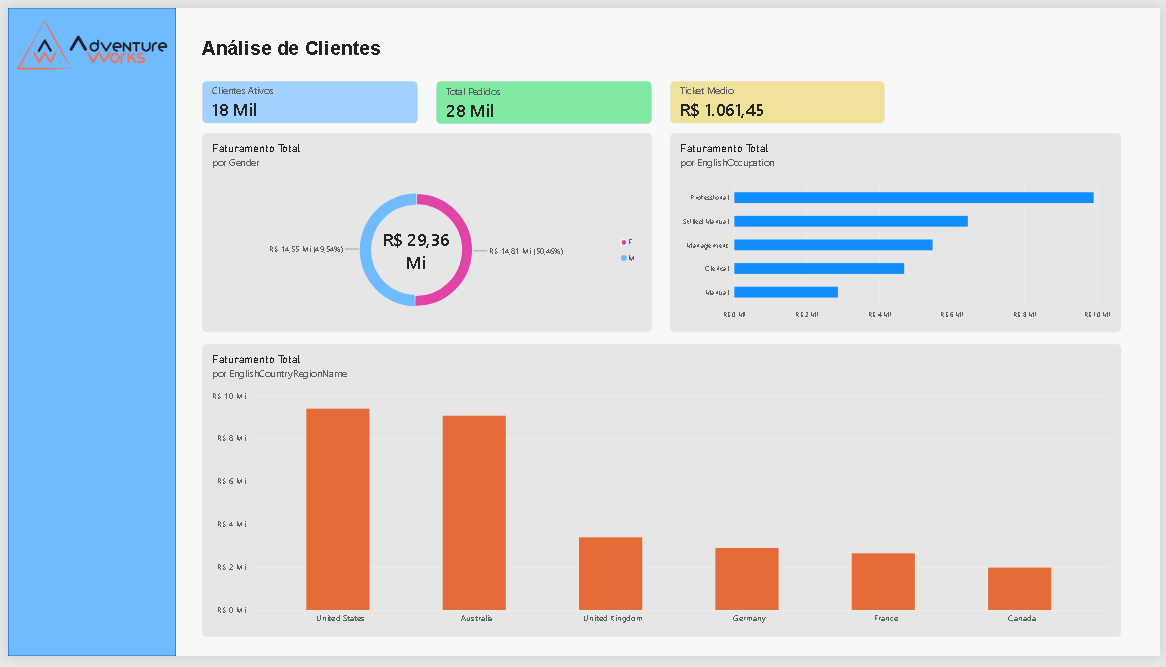

The dashboard page shown, as its layout file describes it:
{"tool":"powerbi","page":{"name":"Análise de Clientes","canvas":[1920,1080],"ordinal":1},"visuals":[{"type":"shape","box":[0,0,280,1080],"z":0},{"type":"image","box":[0,0,280,122],"z":1000},{"type":"textbox","box":[323.3,48.3,360,40],"z":2000},{"type":"donutChart","title":"Faturamento por Gênero","fields":{"Category":["DimCustomer.Gender"],"Y":["FactInternetSales.Faturamento Total"]},"box":[323.3,208.3,750,331.7],"z":3000},{"type":"cardVisual","fields":{"Data":["FactInternetSales.Clientes Ativos"]},"box":[323.3,121.7,360,71.7],"z":4000},{"type":"cardVisual","fields":{"Data":["FactInternetSales.Total Pedidos"]},"box":[712.5,121.2,360,72],"z":5000},{"type":"cardVisual","fields":{"Data":["FactInternetSales.Ticket Medio"]},"box":[1103.3,121.7,358.3,71.7],"z":6000},{"type":"clusteredColumnChart","title":"Faturamento por País","fields":{"Category":["DimGeography.EnglishCountryRegionName"],"Y":["FactInternetSales.Faturamento Total"]},"box":[323.3,560,1531.7,488.3],"z":7000},{"type":"barChart","title":"Faturamento por Profissão","fields":{"Category":["DimCustomer.EnglishOccupation"],"Y":["FactInternetSales.Faturamento Total"]},"box":[1103.3,208.3,751.7,331.7],"z":8000},{"type":"actionButton","box":[41.7,250.8,196.7,40],"z":9000},{"type":"actionButton","box":[41.7,308.3,196.7,40],"z":10000},{"type":"shape","box":[25,308.5,12,40],"z":11000},{"type":"cardVisual","fields":{"Data":["FactInternetSales.Frequência de Compra"]},"box":[1495.7,121.4,358.6,71.4],"z":12000},{"type":"actionButton","box":[41.7,361.2,196.7,40],"z":12001}]}

Visuals, with their boxes in screenshot pixels (x1, y1, x2, y2), scaled from the page's 1920x1080 canvas onto the 1166x667 screenshot:
shape: box=[0, 0, 170, 666]
image: box=[0, 0, 170, 75]
textbox: box=[196, 30, 415, 55]
"Faturamento por Gênero" donutChart: box=[196, 129, 652, 334]
cardVisual - FactInternetSales.Clientes Ativos: box=[196, 75, 415, 119]
cardVisual - FactInternetSales.Total Pedidos: box=[433, 75, 651, 119]
cardVisual - FactInternetSales.Ticket Medio: box=[670, 75, 888, 119]
"Faturamento por País" clusteredColumnChart: box=[196, 346, 1127, 647]
"Faturamento por Profissão" barChart: box=[670, 129, 1127, 334]
actionButton: box=[25, 155, 145, 180]
actionButton: box=[25, 190, 145, 215]
shape: box=[15, 191, 22, 215]
cardVisual - FactInternetSales.Frequência de Compra: box=[908, 75, 1126, 119]
actionButton: box=[25, 223, 145, 248]
